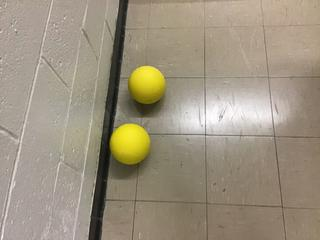power_cell: (108, 121, 155, 168), (128, 61, 170, 113)
